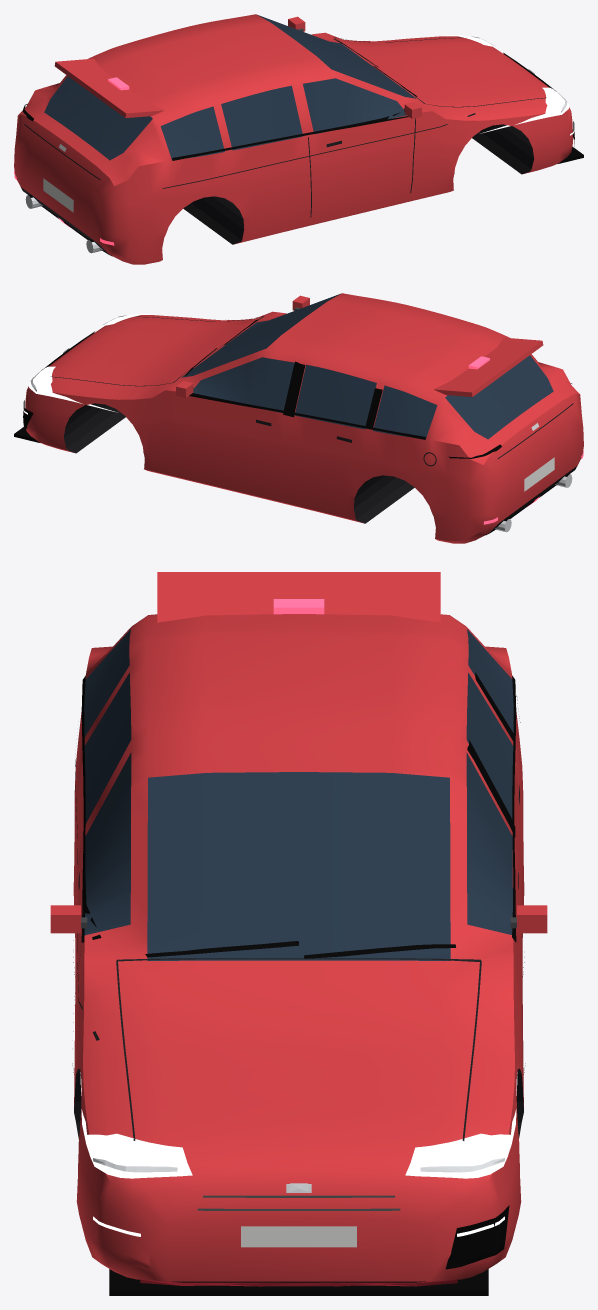
Rendered from hyundai-i30n-pd.glb.
3 views of the same model, one above another, from view 1: azimuth 30°, elevation 25°; view 2: azimuth 150°, elevation 25°; view 3: azimuth 270°, elevation 25° (orthographic). The views are drawn at different scales.
Visible parts, largest first — view 1: hyundai-i30n-pd; view 2: hyundai-i30n-pd; view 3: hyundai-i30n-pd.
Part boxes in pixels (x1,y1,x2,y2): hyundai-i30n-pd: [14, 14, 583, 264]; hyundai-i30n-pd: [14, 293, 583, 543]; hyundai-i30n-pd: [50, 572, 547, 1295].
Size of the model in its own units: 4.37 by 1.31 by 1.96.
